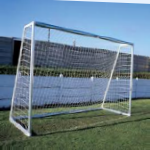goals: (9, 20, 136, 137)
